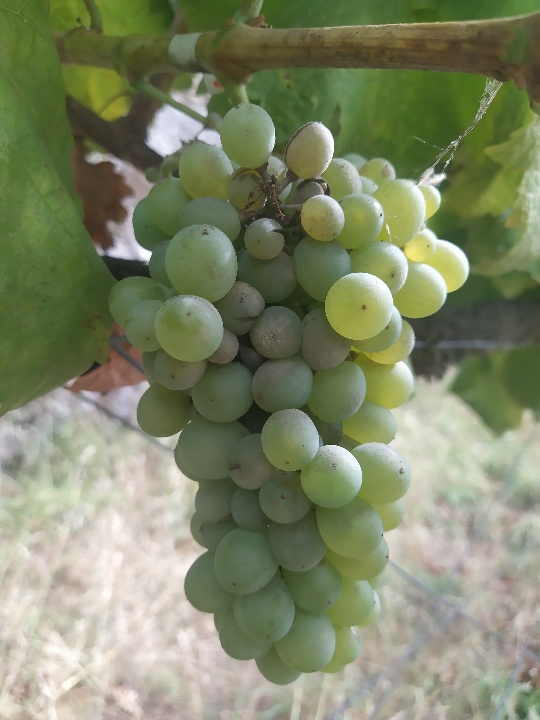grape: (104, 103, 477, 685)
